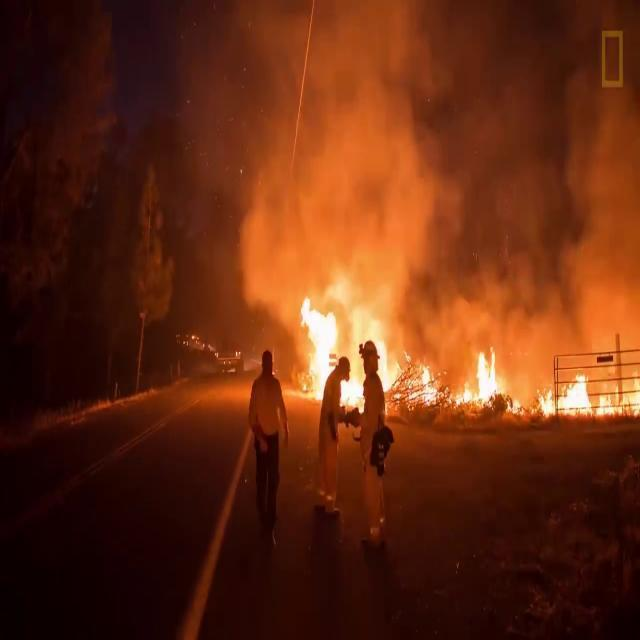Fire: (297, 300, 397, 402), (406, 351, 499, 413), (538, 376, 640, 419)
